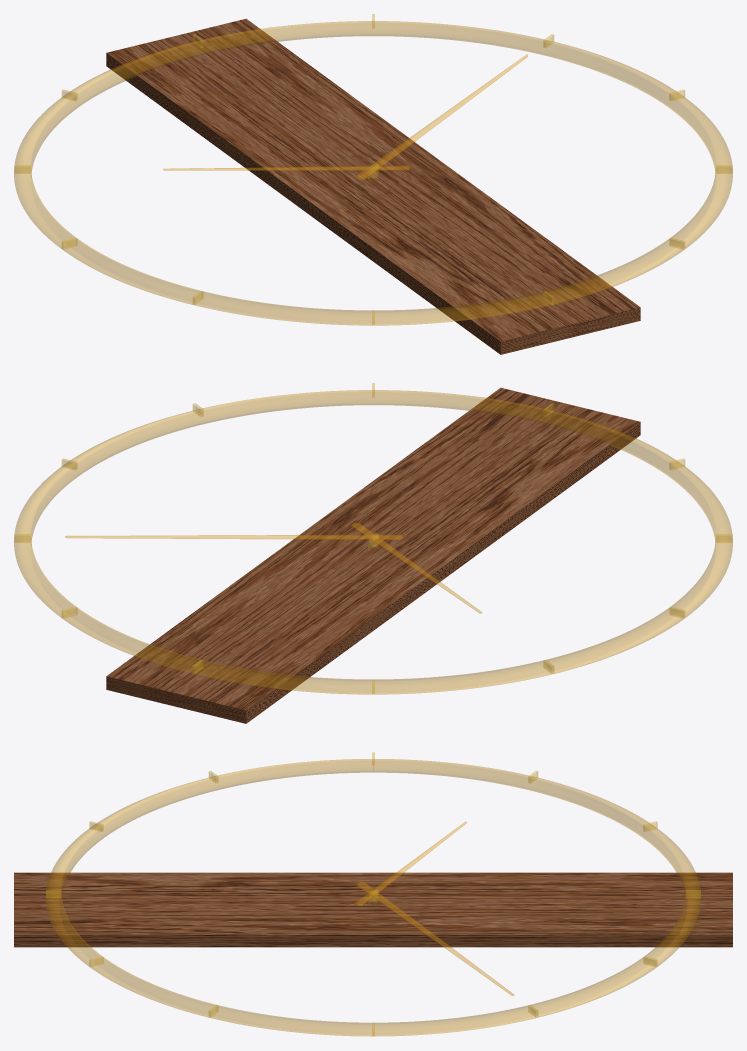
The model's file is golden-ring-clock.glb.
3 renders of one model, top to bottom at view 1: azimuth 30°, elevation 25°; view 2: azimuth 150°, elevation 25°; view 3: azimuth 270°, elevation 25°, orthographic. The views are drawn at different scales.
Visible parts, largest first — view 1: wood, ring, hour, Plane, Plane.001; view 2: wood, ring, hour, Plane, Plane.001; view 3: wood, ring, hour, Plane, Plane.001.
Boxes of the visible parts, x1,y1,x2,y2 form: wood: (106,18,640,354); ring: (14,21,732,325); hour: (14,14,732,324); Plane: (355,54,527,179); Plane.001: (163,166,409,170); wood: (106,387,640,723); ring: (14,390,732,694); hour: (14,383,732,693); Plane: (65,535,402,539); Plane.001: (351,523,481,613); wood: (14,872,732,947); ring: (46,759,700,1036); hour: (46,752,700,1035); Plane: (357,882,513,995); Plane.001: (354,821,466,905).
Bounding box in the file's own units: 3.96 × 0.1691 × 4.34.
4 materials, 1 textured.
